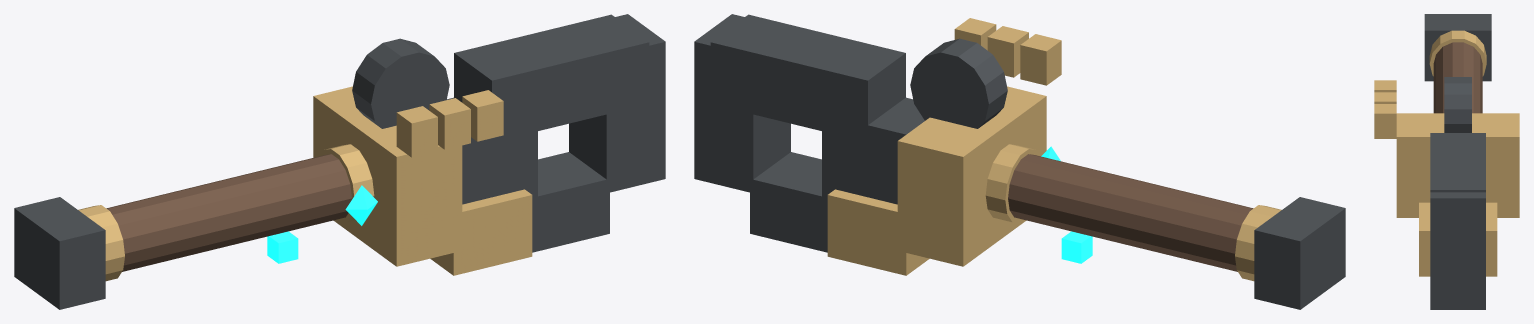
Rendered from SM_MKG_MonkeyWrench_A01.fbx.
3 renders of one model, left to right at view 1: azimuth 30°, elevation 25°; view 2: azimuth 150°, elevation 25°; view 3: azimuth 270°, elevation 25°, orthographic. The views are drawn at different scales.
Parts seen in each view (by area): view 1: JawFixed_DarkIron_UpperHook, Grip_Leather_ThickGnomeScale, Collar_Brass_AdjusterBlock, JawFixed_DarkIron_UpperTip, Pommel_DarkIron_LanyardCap, JawSliding_DarkIron_LowerHook, AdjusterWheel_DarkIron_ReadableKnob, JawSliding_Brass_SlidePlate, JawStem_DarkIron_ThickNeck, AdjusterTooth_Brass_01, AdjusterTooth_Brass_02, AdjusterTooth_Brass_03 (+4 smaller); view 2: JawFixed_DarkIron_UpperHook, Collar_Brass_AdjusterBlock, Grip_Leather_ThickGnomeScale, Pommel_DarkIron_LanyardCap, JawFixed_DarkIron_UpperTip, JawStem_DarkIron_ThickNeck, AdjusterWheel_DarkIron_ReadableKnob, JawSliding_DarkIron_LowerHook, JawSliding_Brass_SlidePlate, Grip_Brass_FrontBand, AdjusterTooth_Brass_01, Grip_Brass_BackBand (+3 smaller); view 3: Collar_Brass_AdjusterBlock, JawFixed_DarkIron_UpperTip, JawFixed_DarkIron_UpperHook, Grip_Leather_ThickGnomeScale, Pommel_DarkIron_LanyardCap, JawSliding_Brass_SlidePlate, AdjusterWheel_DarkIron_ReadableKnob, Grip_Brass_BackBand, AdjusterTooth_Brass_03, JawSliding_DarkIron_LowerHook, AdjusterTooth_Brass_01, AdjusterTooth_Brass_02.
Boxes of the visible parts, <box> form: JawFixed_DarkIron_UpperHook: <box>454,14,649,130</box>; Grip_Leather_ThickGnomeScale: <box>106,154,351,271</box>; Collar_Brass_AdjusterBlock: <box>313,86,462,266</box>; JawFixed_DarkIron_UpperTip: <box>569,14,665,193</box>; Pommel_DarkIron_LanyardCap: <box>14,197,105,309</box>; JawSliding_DarkIron_LowerHook: <box>532,152,609,252</box>; AdjusterWheel_DarkIron_ReadableKnob: <box>352,38,449,128</box>; JawSliding_Brass_SlidePlate: <box>430,189,532,275</box>; JawStem_DarkIron_ThickNeck: <box>446,97,537,204</box>; AdjusterTooth_Brass_01: <box>396,106,437,157</box>; AdjusterTooth_Brass_02: <box>429,98,470,149</box>; AdjusterTooth_Brass_03: <box>462,90,503,141</box>; JawFixed_DarkIron_UpperHook: <box>710,14,905,140</box>; Collar_Brass_AdjusterBlock: <box>897,86,1046,266</box>; Grip_Leather_ThickGnomeScale: <box>1008,154,1253,271</box>; Pommel_DarkIron_LanyardCap: <box>1254,197,1345,309</box>; JawFixed_DarkIron_UpperTip: <box>694,14,790,193</box>; JawStem_DarkIron_ThickNeck: <box>822,97,924,204</box>; AdjusterWheel_DarkIron_ReadableKnob: <box>910,38,1007,128</box>; JawSliding_DarkIron_LowerHook: <box>750,152,827,252</box>; JawSliding_Brass_SlidePlate: <box>827,189,929,275</box>; Grip_Brass_FrontBand: <box>985,144,1040,223</box>; AdjusterTooth_Brass_01: <box>1020,34,1061,85</box>; Grip_Brass_BackBand: <box>1235,205,1281,281</box>; Collar_Brass_AdjusterBlock: <box>1396,113,1519,217</box>; JawFixed_DarkIron_UpperTip: <box>1430,192,1485,299</box>; JawFixed_DarkIron_UpperHook: <box>1430,133,1485,192</box>; Grip_Leather_ThickGnomeScale: <box>1433,42,1482,113</box>; Pommel_DarkIron_LanyardCap: <box>1424,14,1491,81</box>; JawSliding_Brass_SlidePlate: <box>1419,202,1497,276</box>; AdjusterWheel_DarkIron_ReadableKnob: <box>1444,77,1471,132</box>; Grip_Brass_BackBand: <box>1429,30,1486,76</box>; AdjusterTooth_Brass_03: <box>1374,104,1396,138</box>; JawSliding_DarkIron_LowerHook: <box>1430,299,1485,309</box>; AdjusterTooth_Brass_01: <box>1374,80,1396,92</box>; AdjusterTooth_Brass_02: <box>1374,92,1396,103</box>.
Size of what is drawn, in the model's own units: 2600 by 9300 by 3185.
